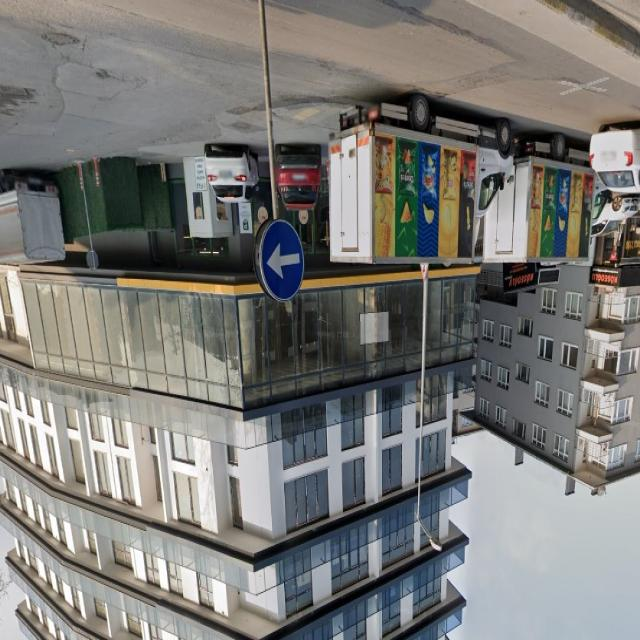Turn Left: (260, 224, 306, 305)
